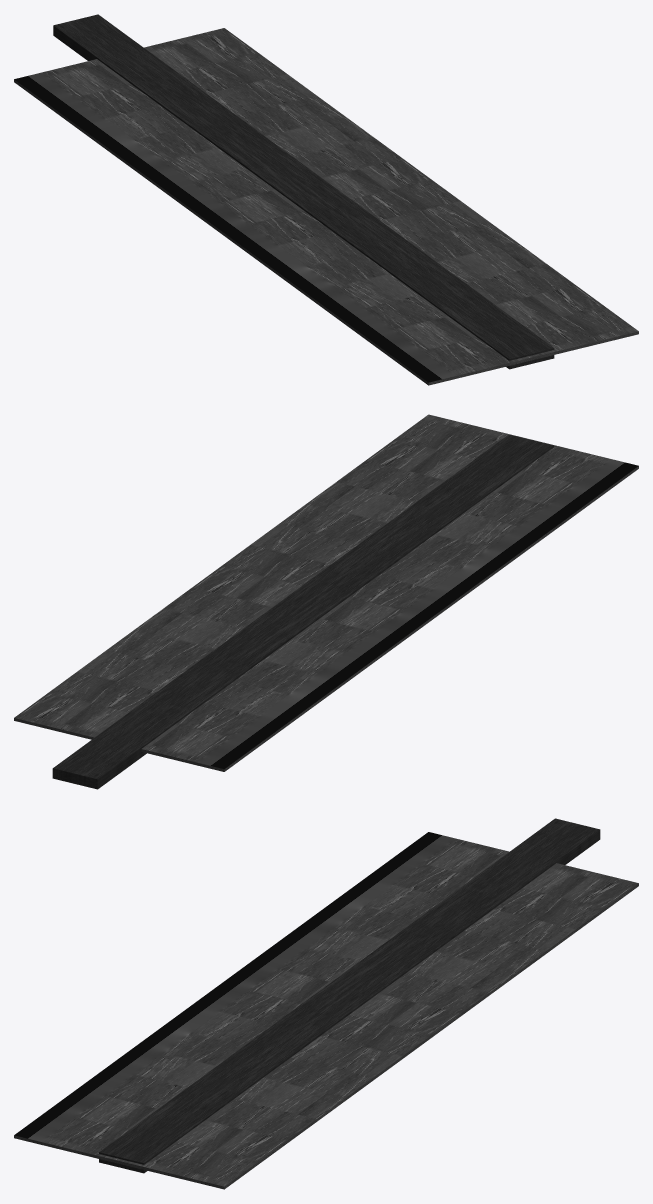
File: floor.gltf
3 renders of one model, top to bottom at view 1: azimuth 30°, elevation 25°; view 2: azimuth 150°, elevation 25°; view 3: azimuth 330°, elevation 25°, orthographic.
Parts seen in each view (by area): view 1: Cube, Cube.003; view 2: Cube, Cube.003; view 3: Cube, Cube.003.
Part boxes in pixels (x1,y1,x2,y2): Cube: (14,28,638,385); Cube.003: (53,14,554,369); Cube: (14,414,638,771); Cube.003: (52,434,553,789); Cube: (14,832,638,1189); Cube.003: (99,818,600,1173).
Bounding box in the file's own units: 14.39 × 0.6669 × 54.26.
Materials: 2 (2 with a texture image).
